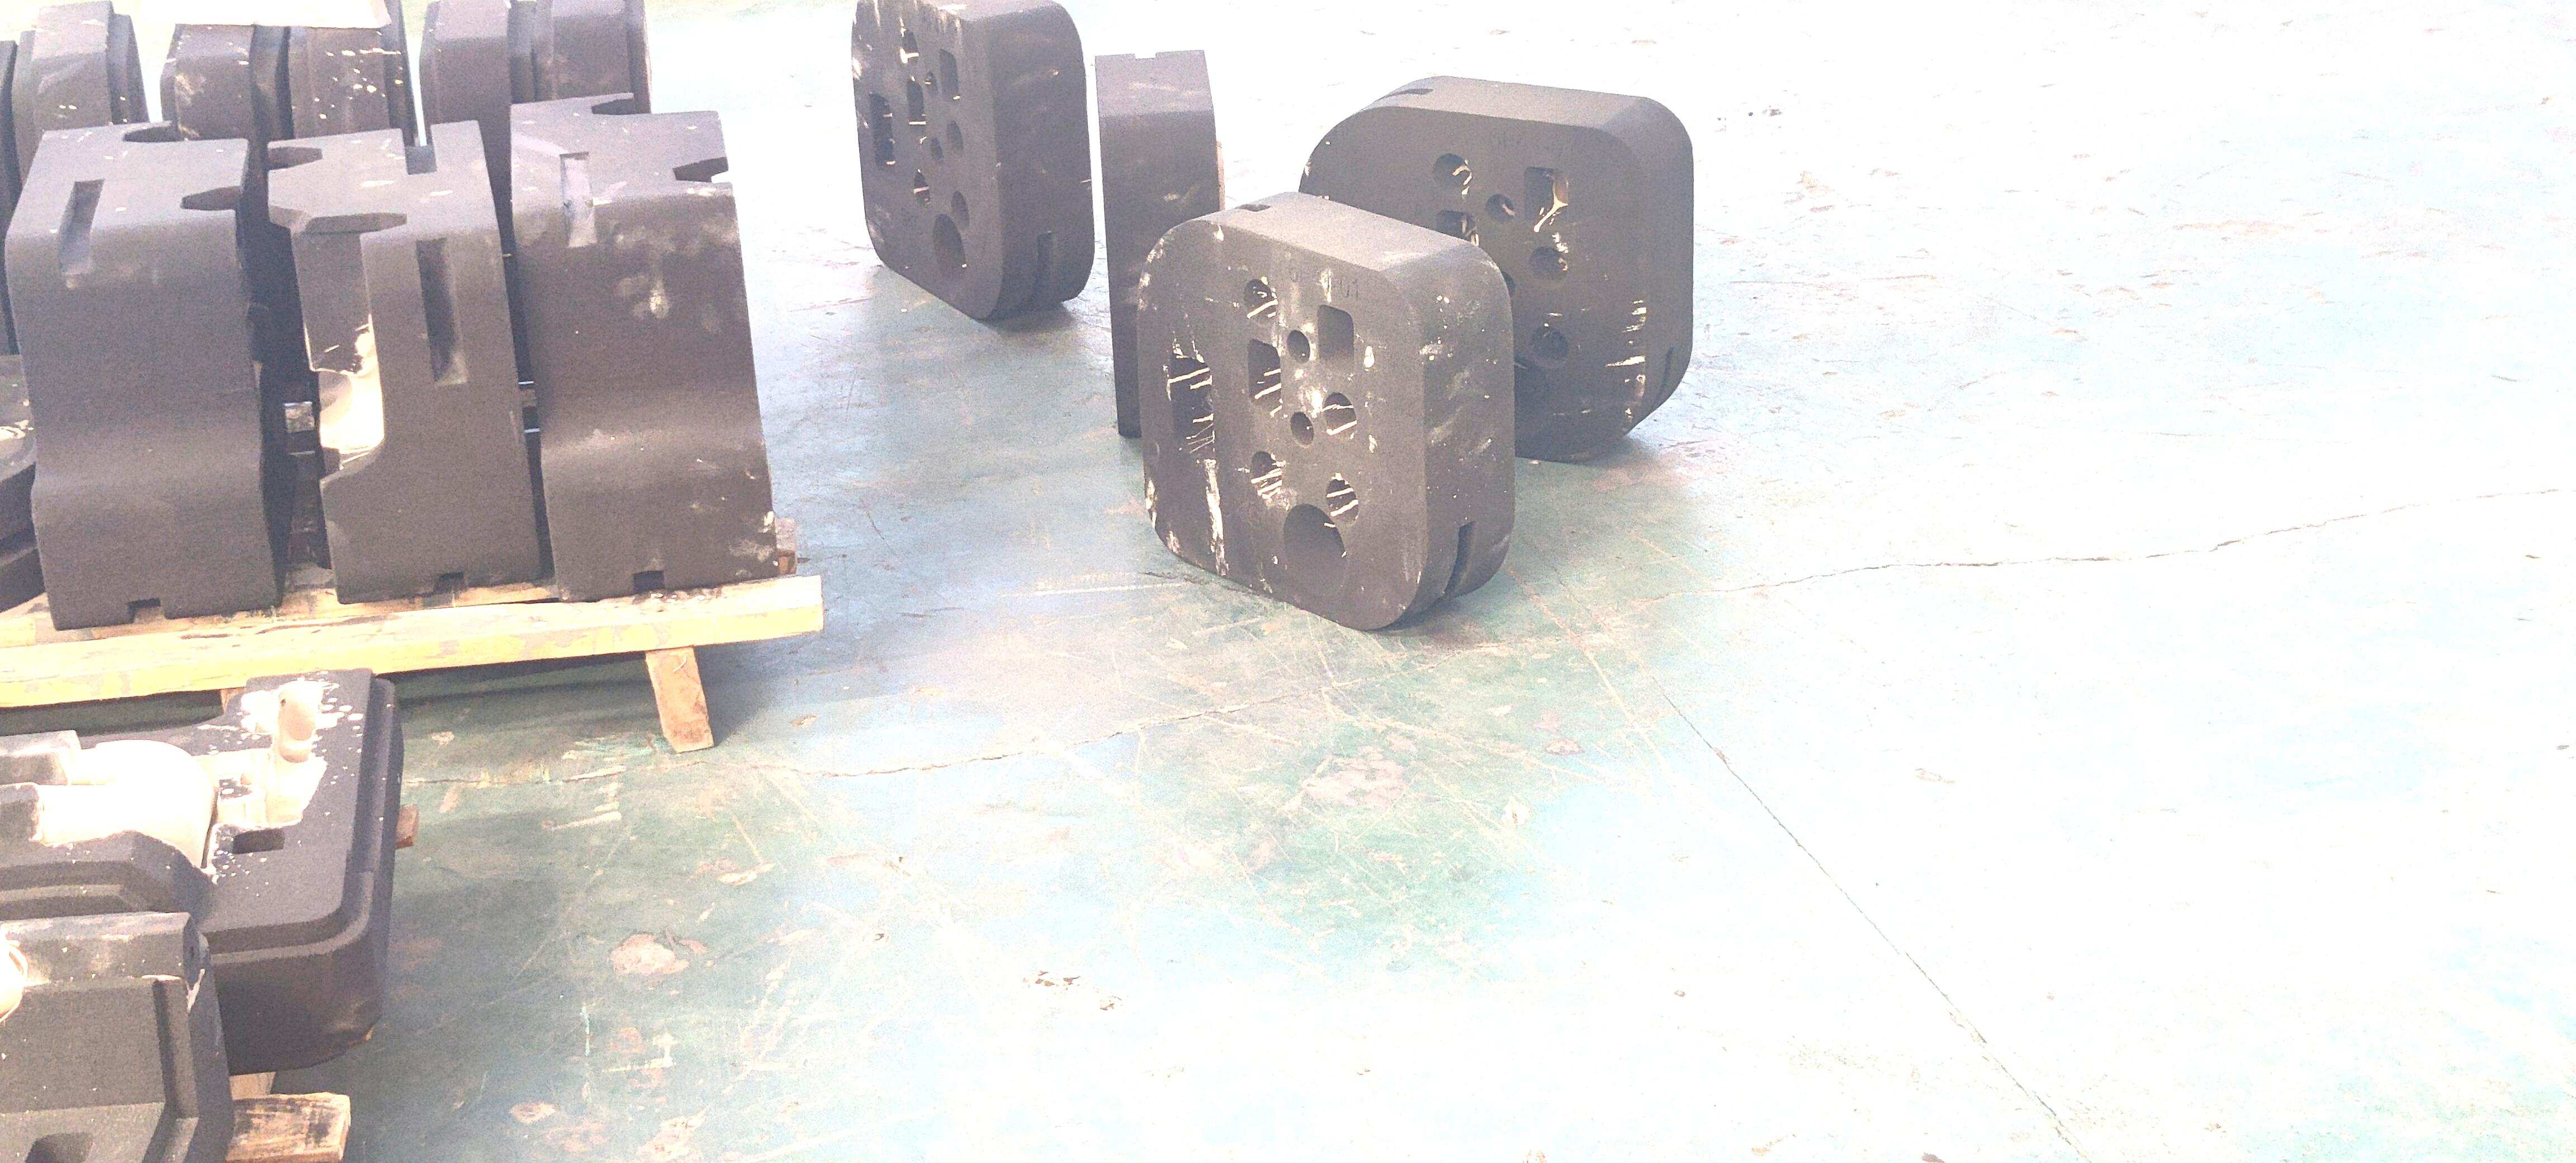pouring hole: (1472, 352, 1548, 440), (1281, 503, 1346, 600), (932, 212, 966, 289)
